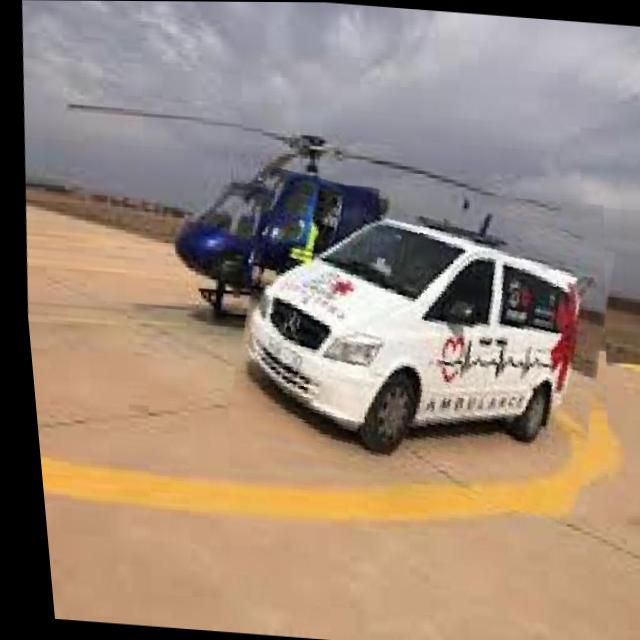ambulance: (205, 176, 621, 512)
